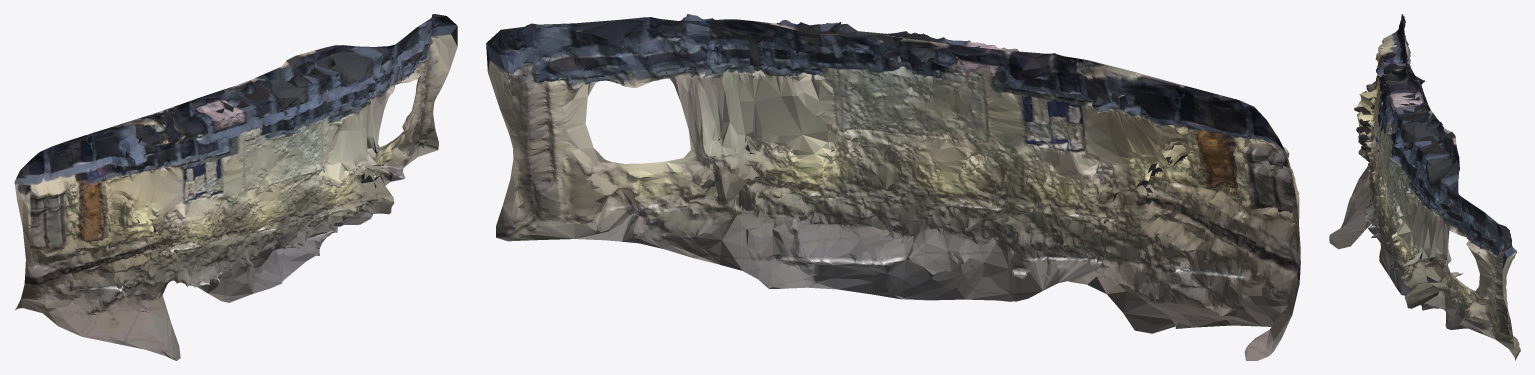
The model's file is room.glb.
The picture shows the model from 3 angles, left to right: view 1: azimuth 30°, elevation 25°; view 2: azimuth 150°, elevation 25°; view 3: azimuth 270°, elevation 25°; orthographic projection. The views are drawn at different scales.
Parts seen in each view (by area): view 1: node; view 2: node; view 3: node.
Boxes of the visible parts, x1,y1,x2,y2 form: node: (14,14,457,360); node: (486,14,1300,360); node: (1329,14,1520,360).
Size of the model in its own units: 22.58 by 9.28 by 8.25.
1 material, 1 textured.
